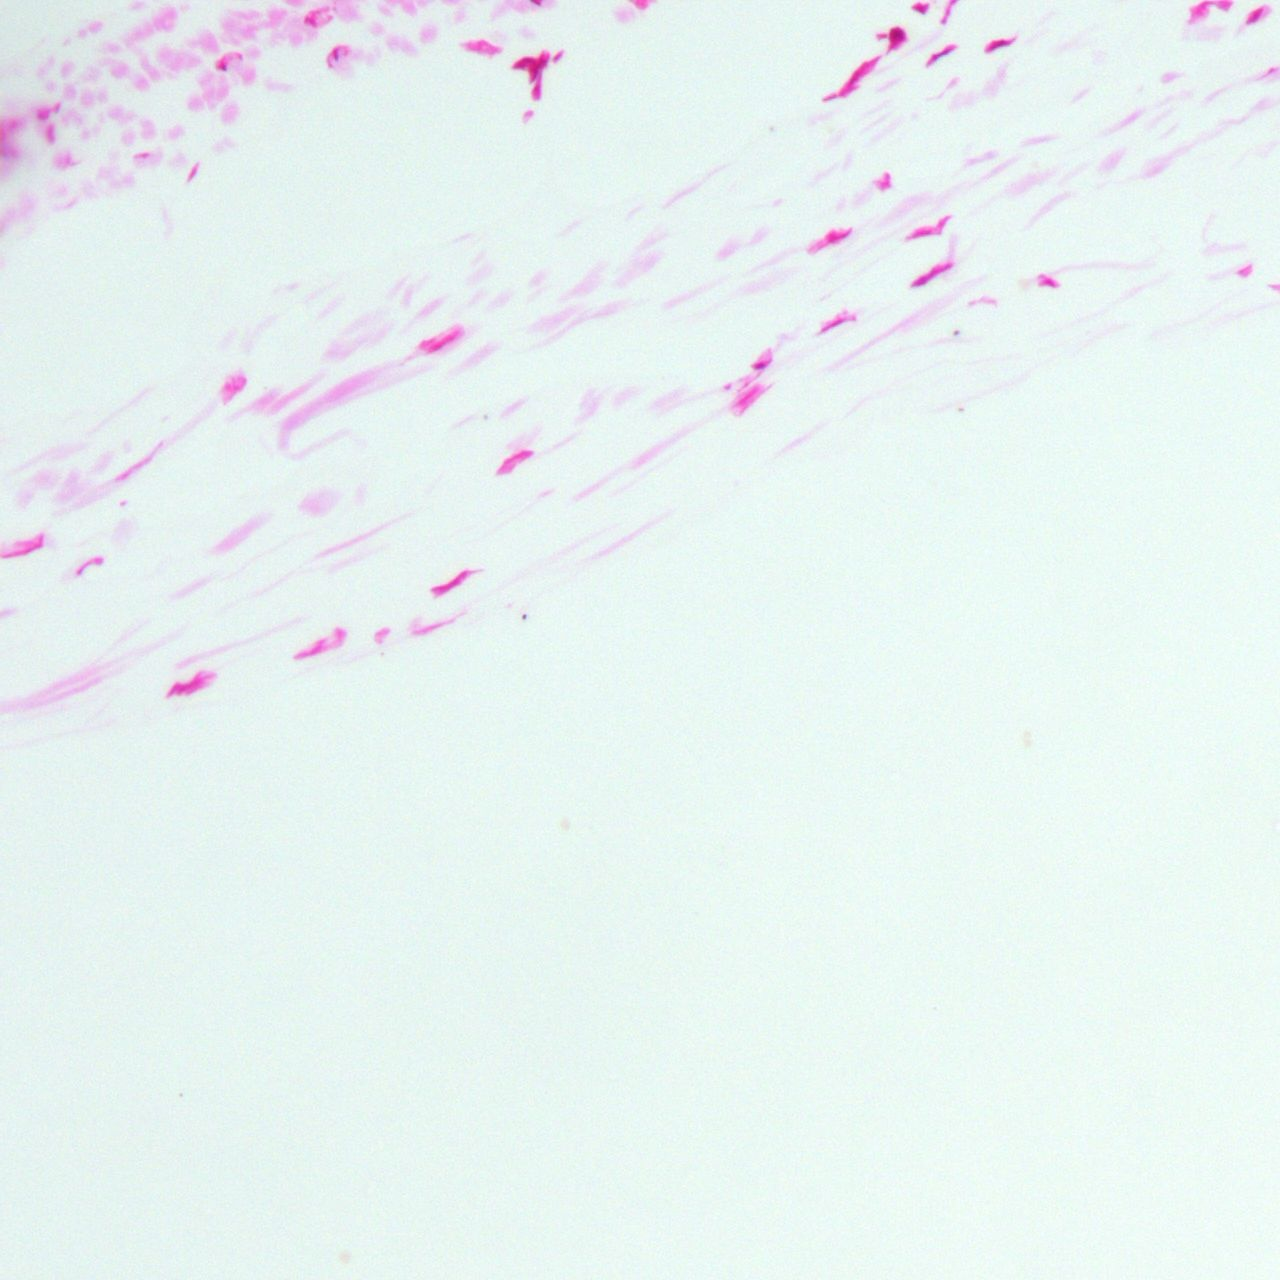dust: (177, 1090, 185, 1099), (379, 651, 386, 658), (482, 413, 489, 420), (952, 331, 959, 336), (956, 407, 964, 411), (520, 613, 526, 618), (769, 125, 772, 132)
nucleus-FG: (821, 52, 884, 110), (162, 668, 216, 704), (416, 322, 465, 359), (427, 565, 477, 600), (806, 220, 853, 258), (496, 440, 538, 478), (292, 629, 347, 659), (731, 376, 772, 415), (908, 258, 953, 293), (908, 216, 952, 244), (922, 40, 962, 69), (981, 29, 1023, 56), (4, 538, 47, 563), (818, 309, 858, 335), (512, 50, 549, 79), (76, 552, 109, 576), (885, 25, 910, 55), (320, 42, 350, 66), (529, 72, 546, 102), (937, 0, 955, 26), (1245, 6, 1265, 23), (185, 159, 200, 182), (1039, 277, 1062, 288), (910, 2, 930, 14), (212, 59, 229, 72), (751, 360, 769, 369), (878, 173, 890, 188)
